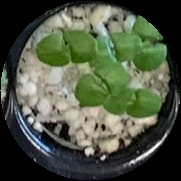Basil: (74, 64, 128, 106), (36, 31, 95, 66), (86, 32, 141, 66), (134, 17, 166, 72), (105, 87, 159, 119)
